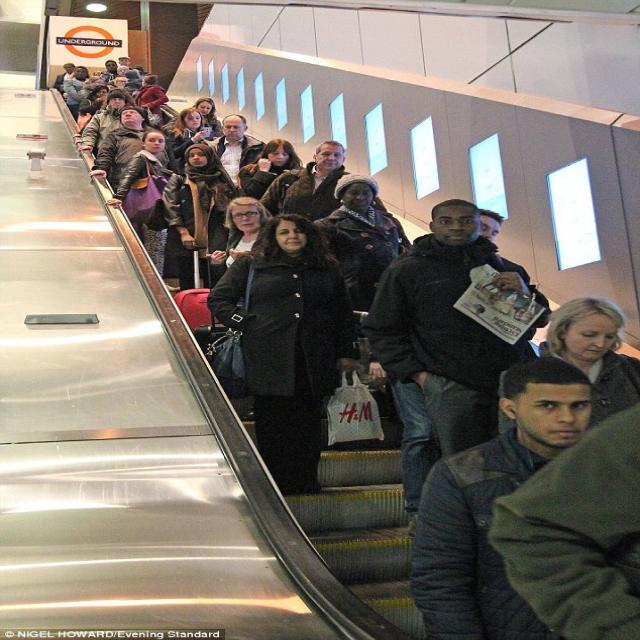body: (404, 354, 594, 640), (364, 200, 556, 464), (203, 211, 366, 497), (361, 206, 505, 487), (494, 402, 639, 640), (312, 171, 411, 326), (538, 296, 640, 422), (160, 142, 242, 290), (101, 130, 176, 280), (258, 140, 390, 222), (88, 106, 178, 196), (207, 196, 278, 288), (207, 113, 268, 189), (236, 138, 307, 201), (166, 107, 222, 170), (76, 89, 130, 154), (130, 74, 170, 130), (165, 96, 223, 134), (61, 66, 91, 125), (74, 85, 109, 133), (51, 62, 79, 95), (122, 69, 143, 96), (98, 60, 119, 83), (83, 75, 105, 88), (114, 65, 131, 78), (113, 76, 129, 88), (117, 56, 132, 67)
